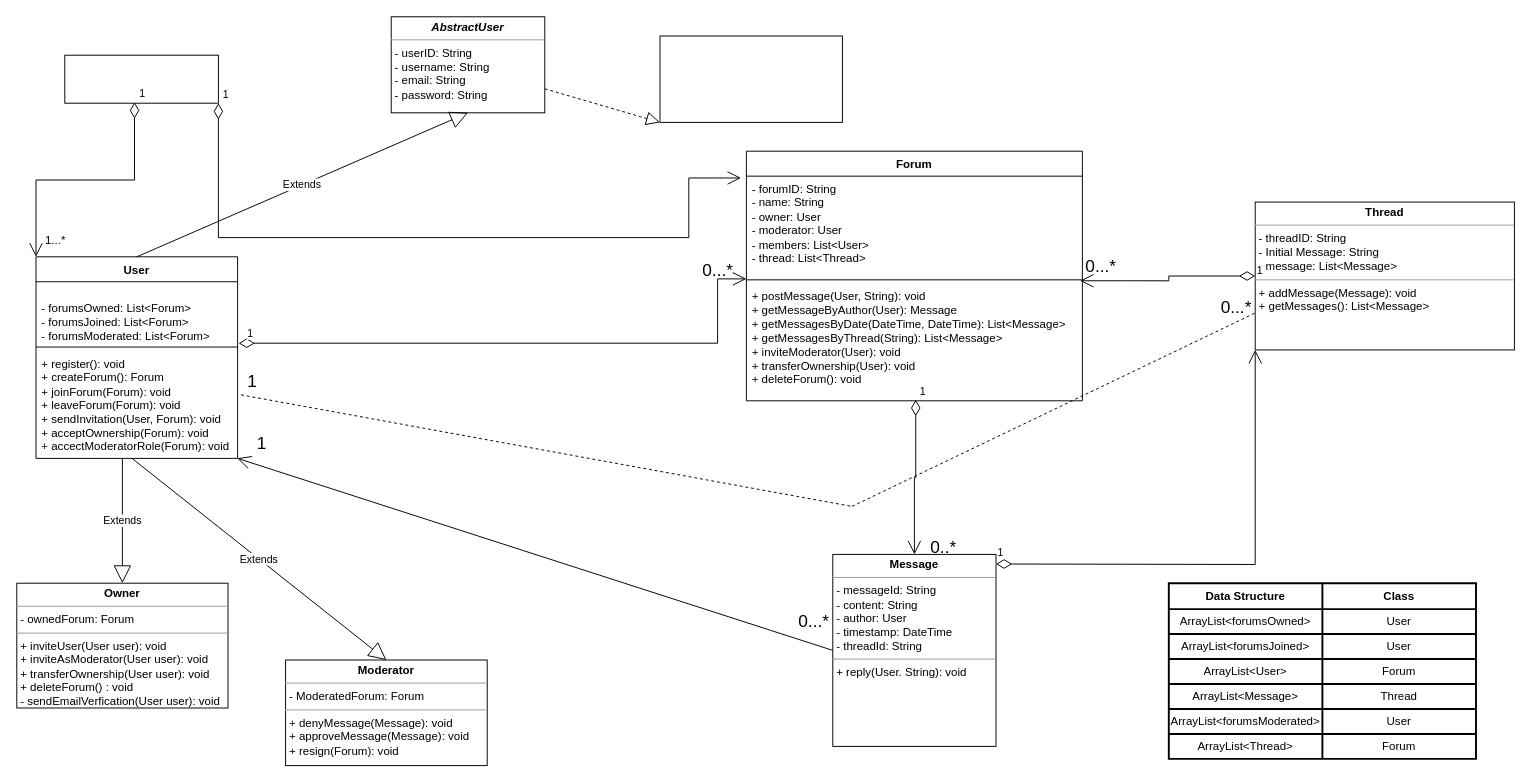
The diagram is 1531 pixels wide and 782 high, and some of its shapes have lost their labels. The shapes that lost their labels are listed below. From the top down, each one's centre as x and y in pixels, then its label:
At (141,78): "Website - url: String".
At (750,78): "<<Interface>> IAuthenticatable + login(): void + logout(): void".
